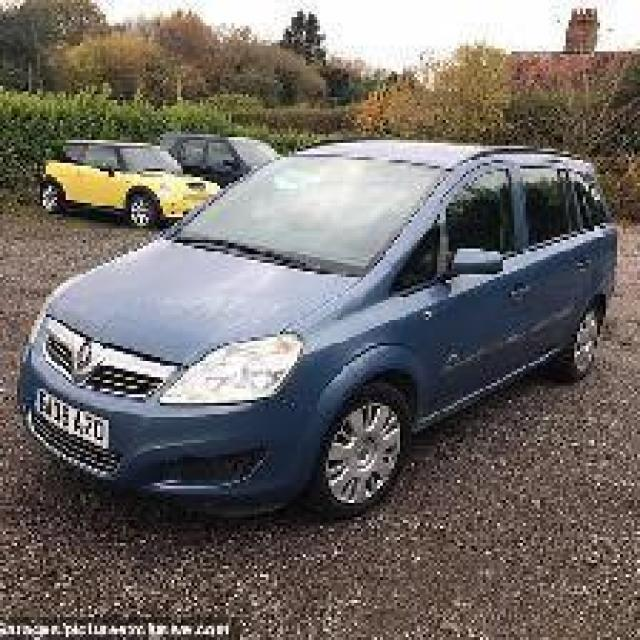damaged: (437, 300, 574, 380)
